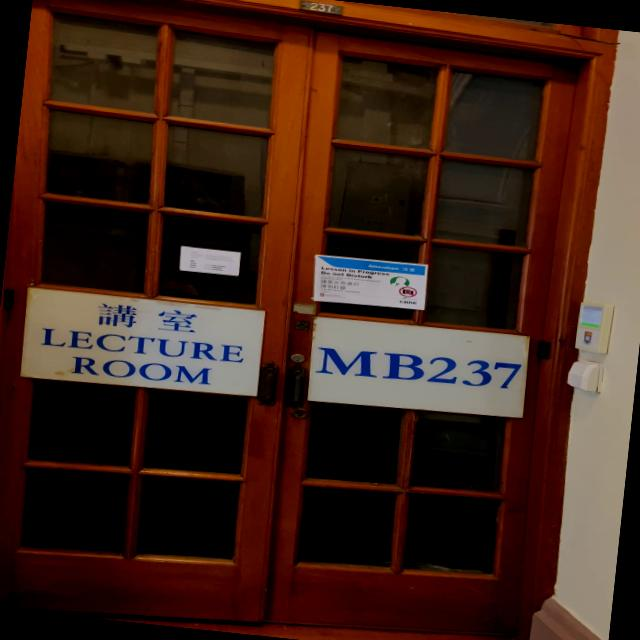room237: (290, 0, 351, 19)
room237Window: (308, 338, 524, 398)
